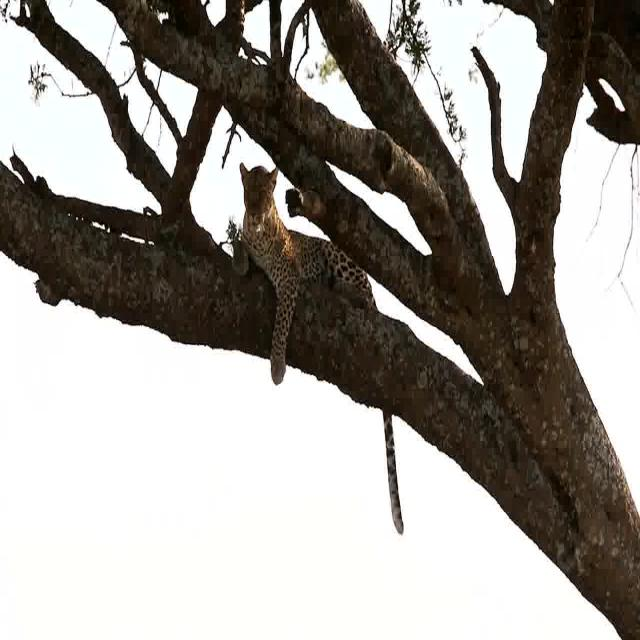Jaguar: (237, 149, 429, 566)
